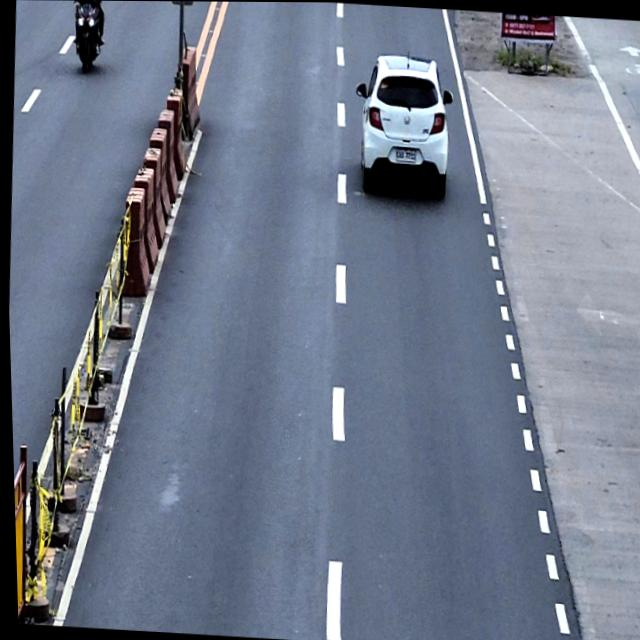Car: (349, 48, 457, 197)
License-Plate: (387, 143, 423, 165)
Motorcycle: (69, 0, 108, 74)
